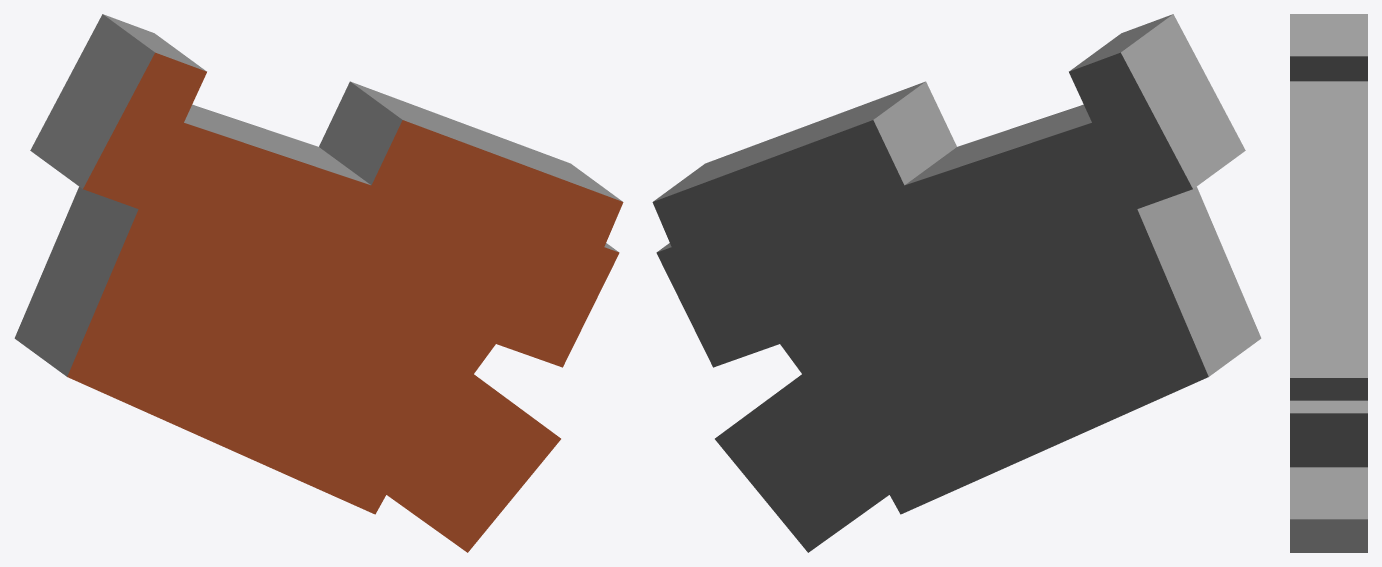
File: construction_0752_assumed_A_Casa_h6m.obj
3 views of the same model, side by side, from view 1: azimuth 30°, elevation 25°; view 2: azimuth 150°, elevation 25°; view 3: azimuth 270°, elevation 25° (orthographic). The views are drawn at different scales.
Visible parts, largest first — view 1: construction_0752_assumed_A_Casa; view 2: construction_0752_assumed_A_Casa; view 3: construction_0752_assumed_A_Casa.
Boxes of the visible parts, x1,y1,x2,y2 form: construction_0752_assumed_A_Casa: (14, 14, 623, 552); construction_0752_assumed_A_Casa: (652, 14, 1261, 552); construction_0752_assumed_A_Casa: (1290, 14, 1367, 552).
Size of the model in its own units: 36.58 by 36.23 by 6.
